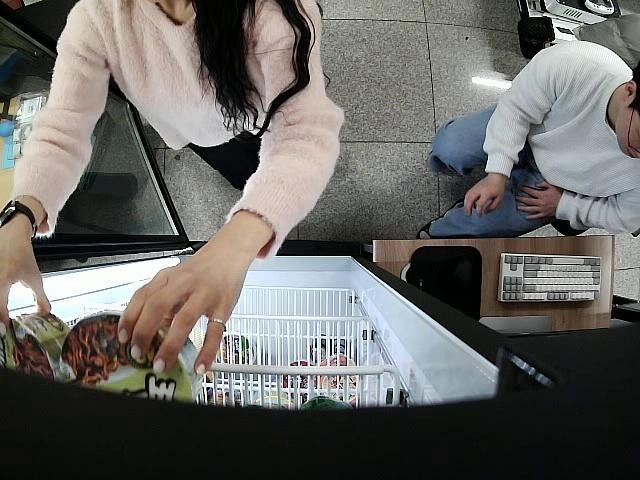03_chapagetti_L: (61, 312, 206, 412), (0, 307, 73, 389)
